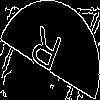R: (25, 25, 64, 82)
